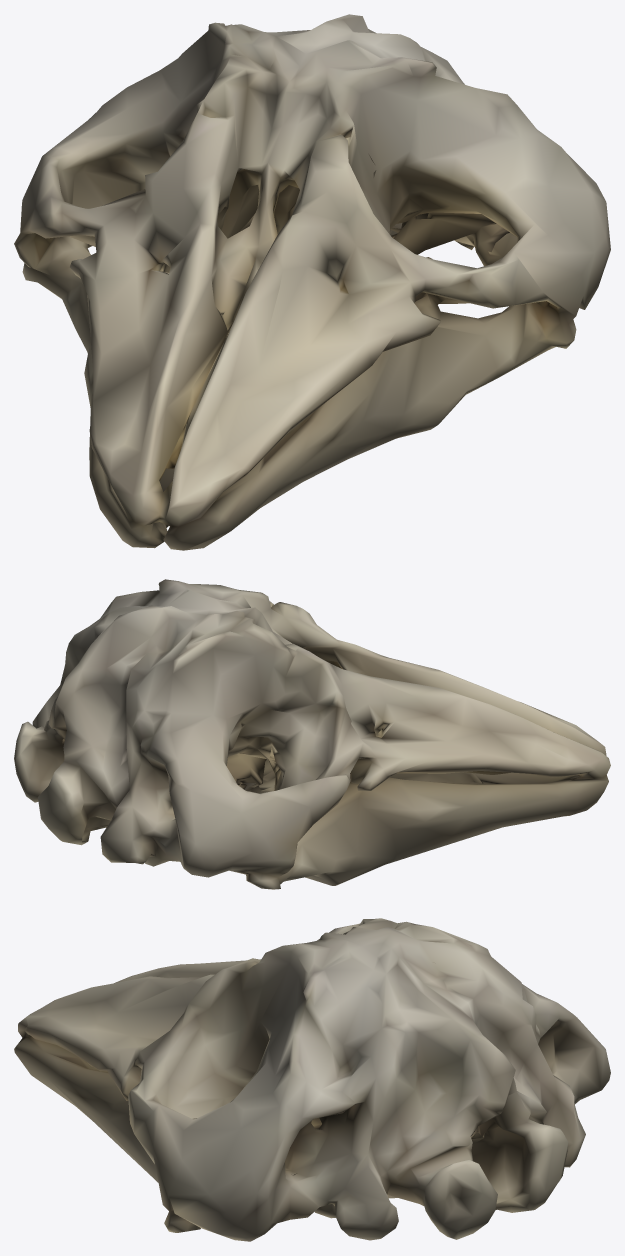
The model's file is whale_bone_skull.glb.
3 views of the same model, one above another, from view 1: azimuth 30°, elevation 25°; view 2: azimuth 150°, elevation 25°; view 3: azimuth 270°, elevation 25° (orthographic). The views are drawn at different scales.
Parts seen in each view (by area): view 1: world; view 2: world; view 3: world.
Part boxes in pixels (x1,y1,x2,y2): world: (14,14,610,550); world: (14,579,610,889); world: (14,918,610,1241).
Size of the model in its own units: 1.88 by 1 by 1.88.
